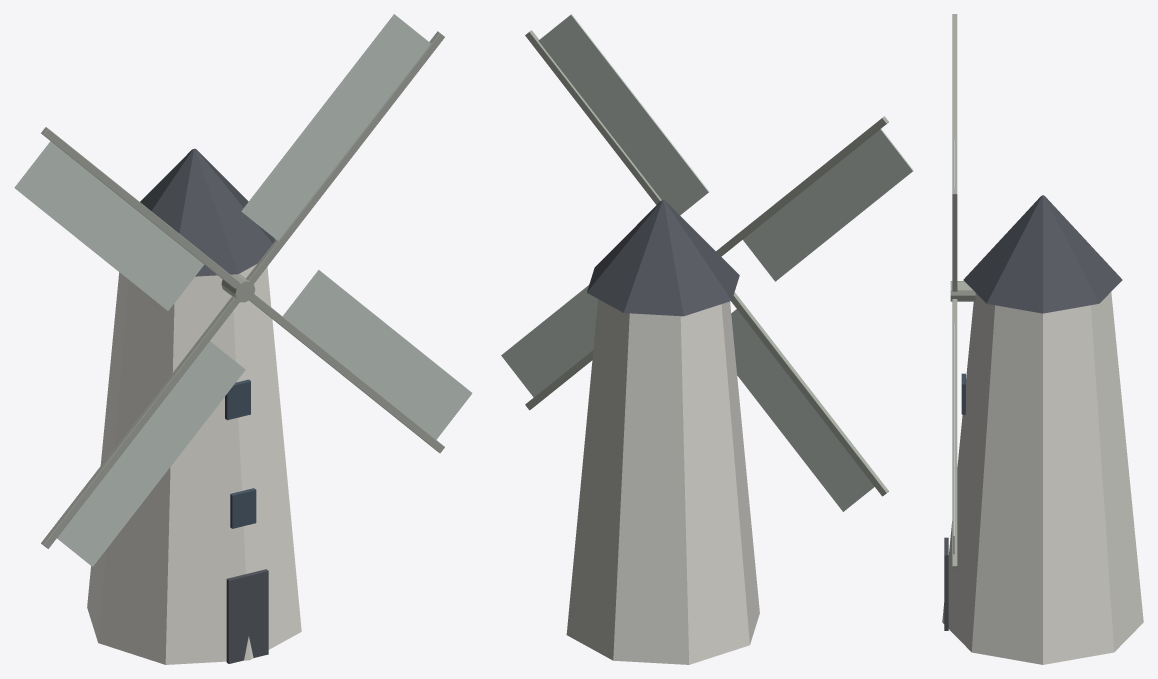
Rendered from windmill.glb.
3 views of the same model, side by side, from view 1: azimuth 30°, elevation 25°; view 2: azimuth 150°, elevation 25°; view 3: azimuth 270°, elevation 25° (orthographic). The views are drawn at different scales.
Parts seen in each view (by area): view 1: prop; view 2: prop; view 3: prop.
Boxes of the visible parts, x1,y1,x2,y2 form: prop: [14, 14, 472, 664]; prop: [501, 14, 913, 664]; prop: [942, 14, 1143, 664].
Size of the model in its own units: 11.41 by 14.41 by 4.8.
